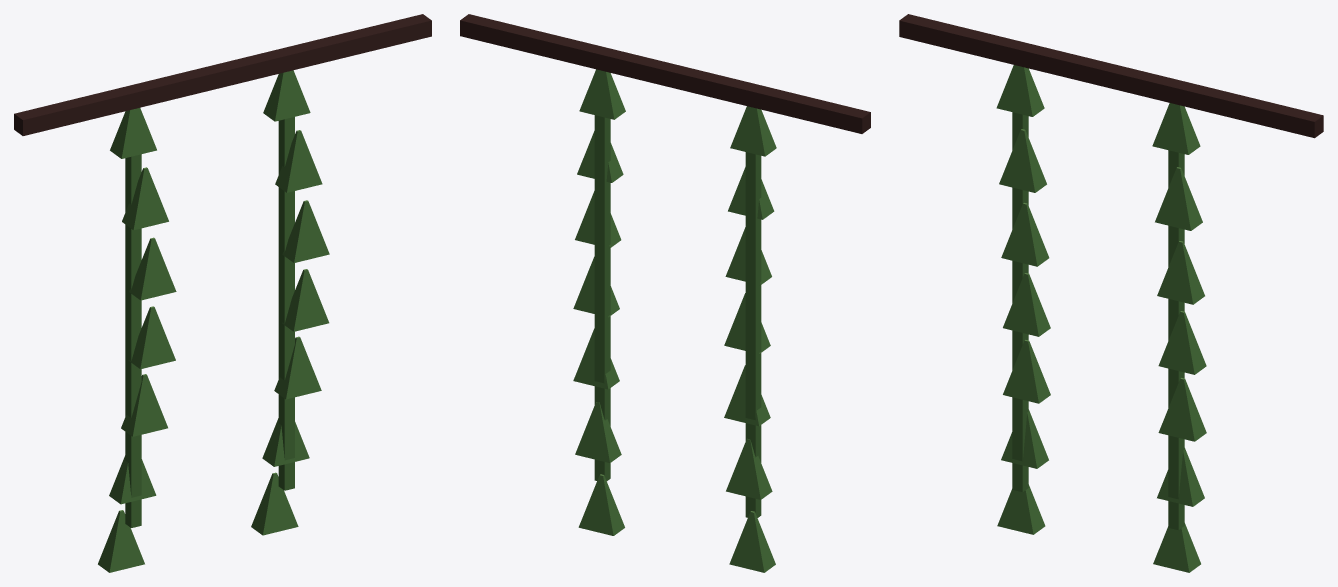
Rendered from curtain_vines.obj.
3 views of the same model, side by side, from view 1: azimuth 30°, elevation 25°; view 2: azimuth 150°, elevation 25°; view 3: azimuth 330°, elevation 25° (orthographic). The views are drawn at different scales.
Bounding box in the file's own units: 1.6 × 1.79 × 0.1729.
